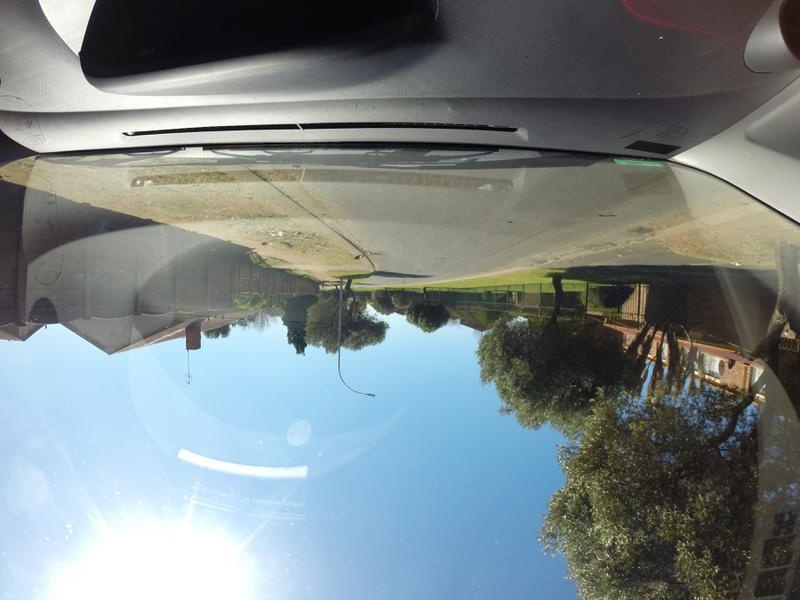pothole: (596, 200, 628, 226)
